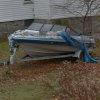Boat: (5, 20, 92, 71)
